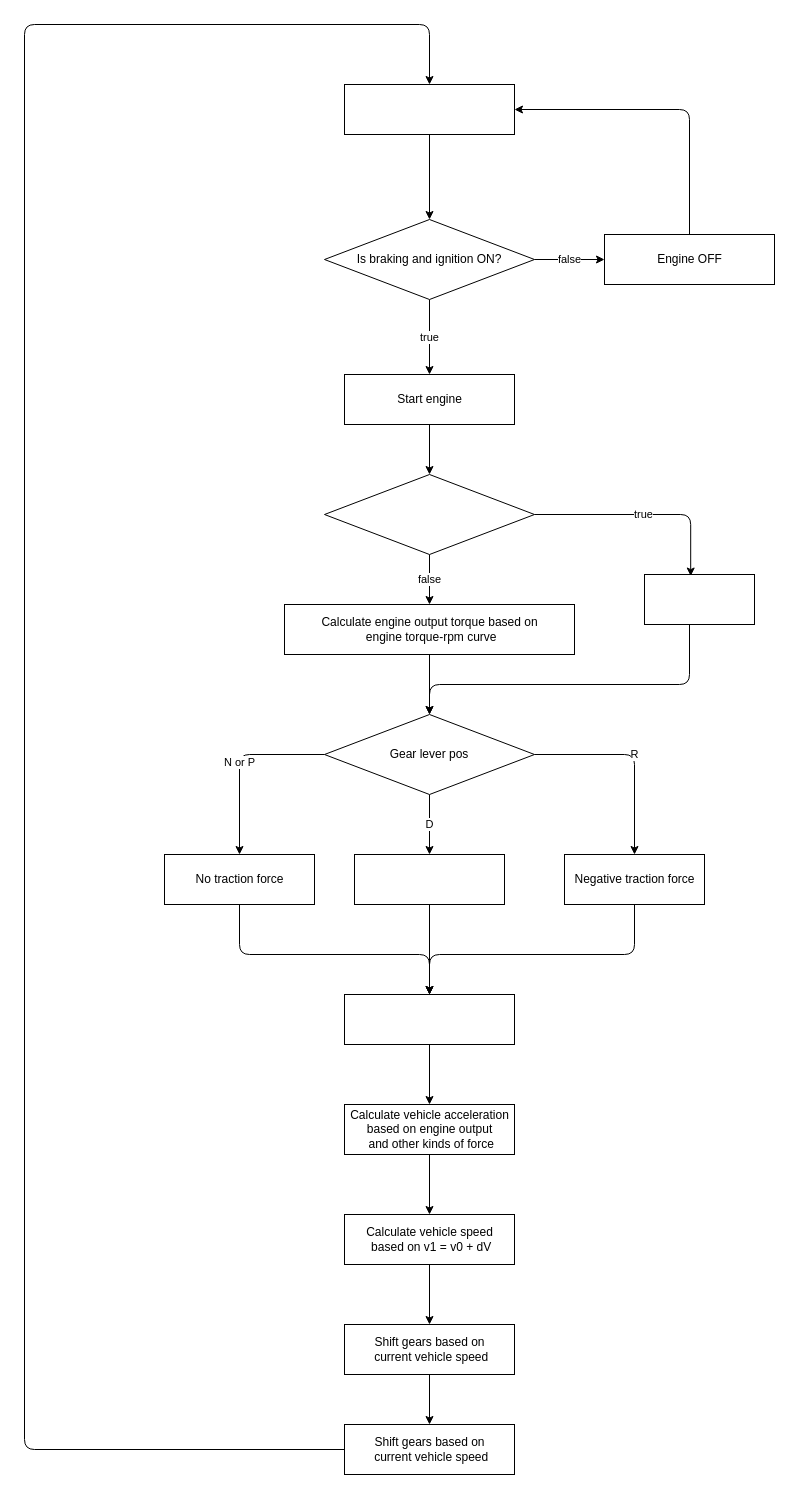
The diagram is 792 pixels wide and 1492 high, and some of its shapes have lost their labels. The shapes that lost their labels are listed below. From the top down, each one's centre as x and y in pixels, then its label:
point (429, 109): User inputs (acc, brk, pindal, gear lever)
point (429, 514): Is braking?
point (699, 599): Set engine output torque as 0
point (429, 879): Positive traction force
point (429, 1019): Calculate aerodynamic force
